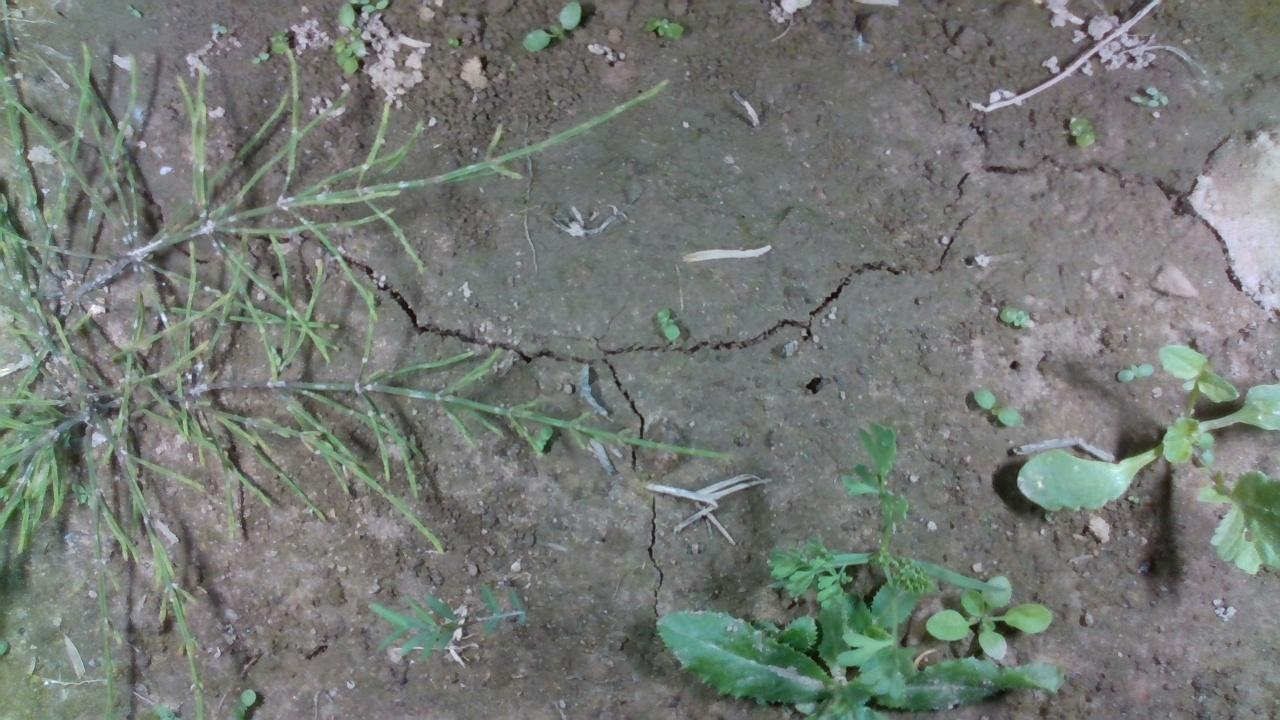weed: (968, 385, 1021, 430), (1001, 301, 1059, 332), (1064, 111, 1100, 152), (650, 302, 685, 341), (1118, 357, 1155, 389)
